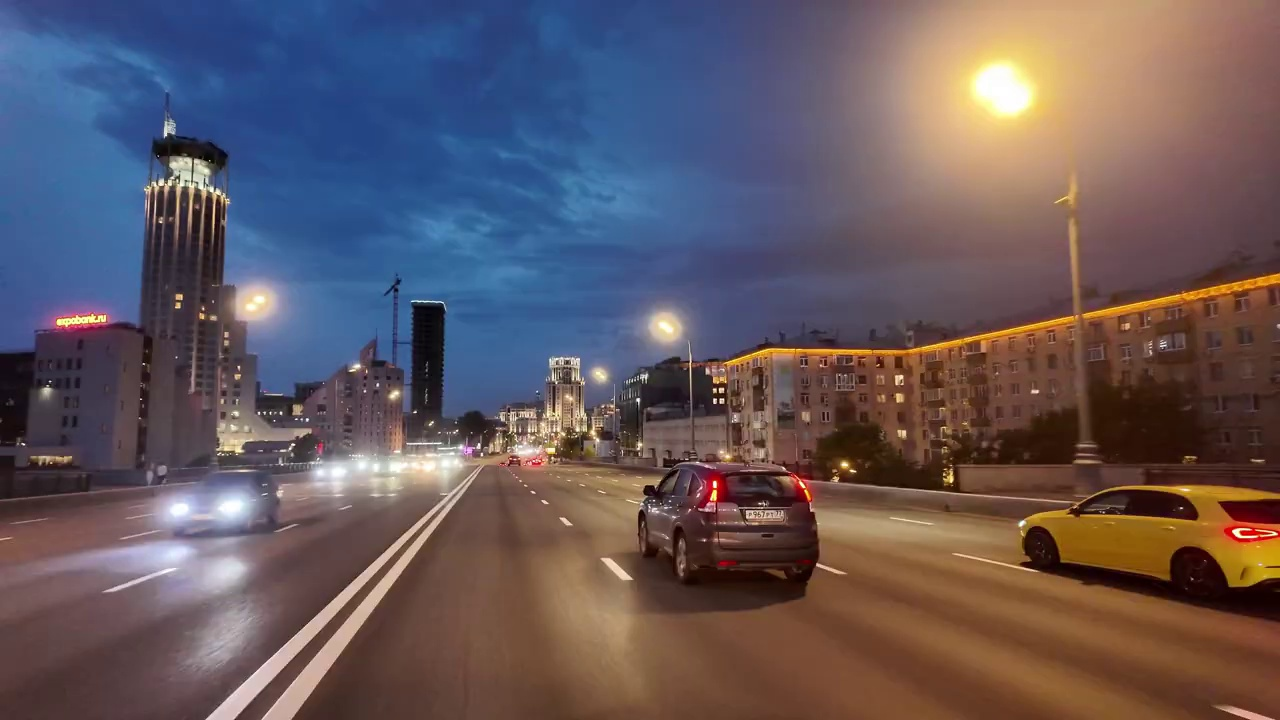acesa: (960, 54, 1040, 128), (237, 288, 273, 319), (651, 311, 683, 343), (592, 364, 611, 385)
apagada: (380, 277, 403, 301)
